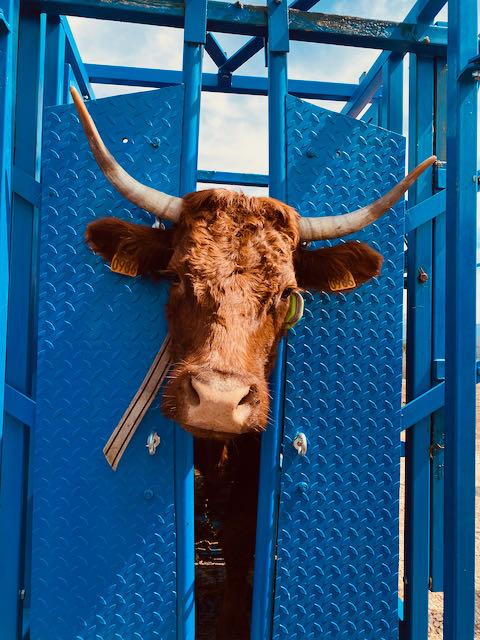muzzles: (160, 361, 268, 442)
